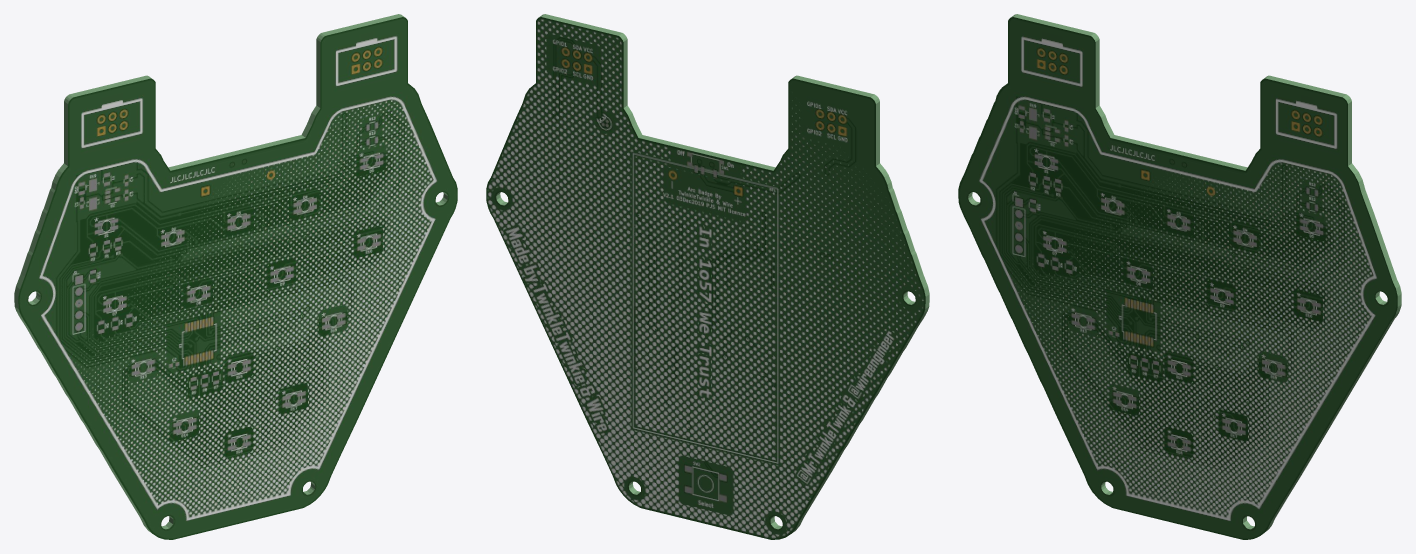
Rendered from arc-badge.glb.
3 renders of one model, left to right at view 1: azimuth 30°, elevation 25°; view 2: azimuth 150°, elevation 25°; view 3: azimuth 330°, elevation 25°, orthographic.
Parts seen in each view (by area): view 1: faces, edges; view 2: faces, edges; view 3: faces, edges.
Boxes of the visible parts, box(x1,y1,x2,y2) form: faces: box(18, 17, 457, 539); edges: box(14, 14, 447, 532); faces: box(486, 17, 925, 539); edges: box(496, 14, 929, 532); faces: box(958, 17, 1397, 539); edges: box(968, 14, 1401, 533).
Bounding box in the file's own units: 0.0999 × 0.1014 × 0.0016.
Materials: 2 (1 with a texture image).
